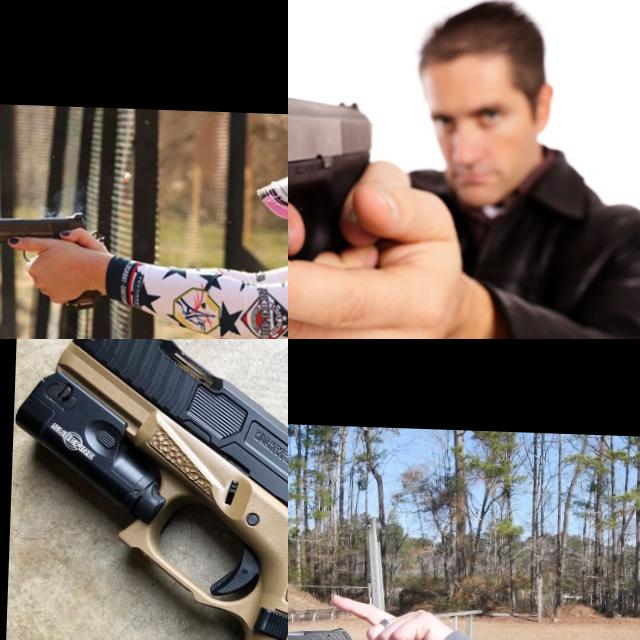handgun: (0, 339, 288, 640), (288, 70, 403, 264), (0, 205, 90, 264)
